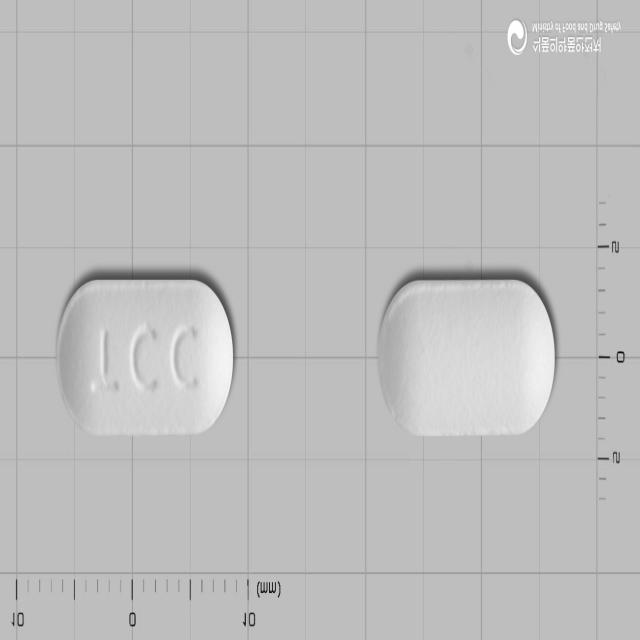Cf: (57, 275, 235, 435), (378, 281, 556, 438)
